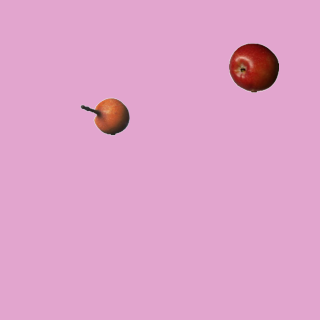Apple Braeburn: (228, 42, 278, 92)
Granadilla: (79, 91, 129, 141)
